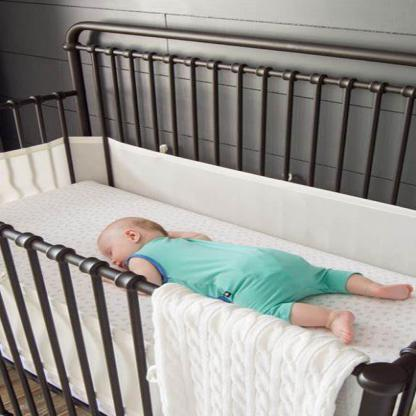baby: (96, 216, 413, 346)
